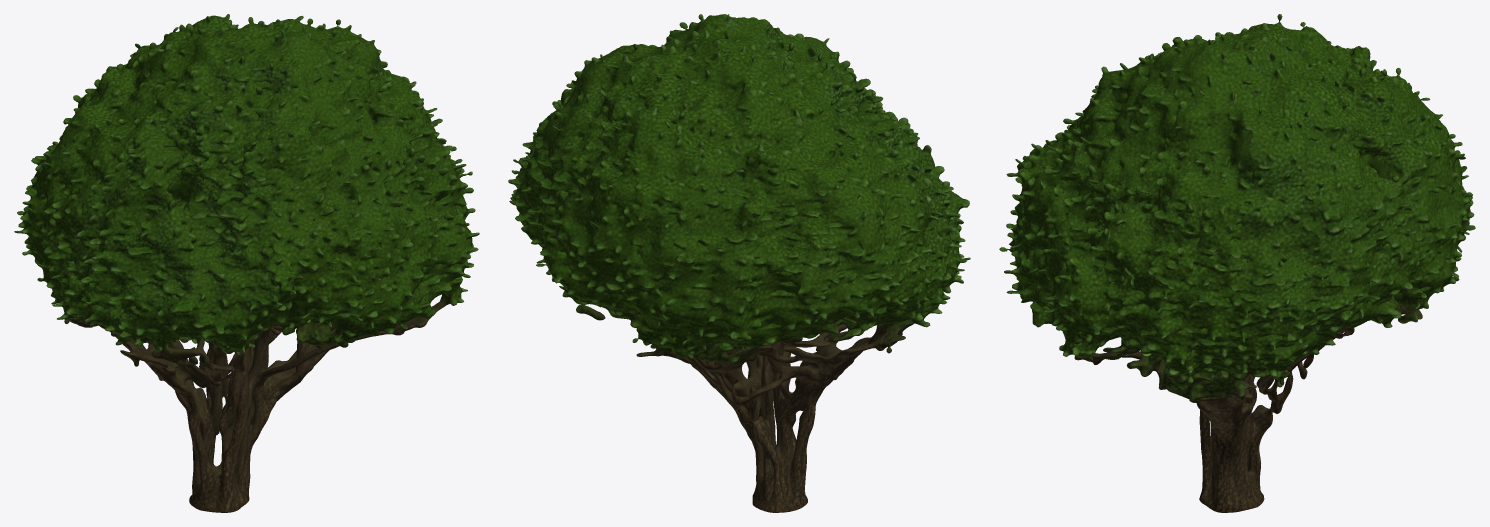
File: planta1.glb
3 views of the same model, side by side, from view 1: azimuth 30°, elevation 25°; view 2: azimuth 150°, elevation 25°; view 3: azimuth 270°, elevation 25° (orthographic). The views are drawn at different scales.
Parts seen in each view (by area): view 1: tripo_node_b6b704bb-d4da-444c-b563-52bd0be8d6ae; view 2: tripo_node_b6b704bb-d4da-444c-b563-52bd0be8d6ae; view 3: tripo_node_b6b704bb-d4da-444c-b563-52bd0be8d6ae.
Part boxes in pixels (x1,y1,x2,y2): tripo_node_b6b704bb-d4da-444c-b563-52bd0be8d6ae: (14,14,479,512); tripo_node_b6b704bb-d4da-444c-b563-52bd0be8d6ae: (508,14,970,512); tripo_node_b6b704bb-d4da-444c-b563-52bd0be8d6ae: (999,14,1475,512).
Size of the model in its own units: 0.9299 by 0.9999 by 0.8735.
Materials: 1 (1 with a texture image).
